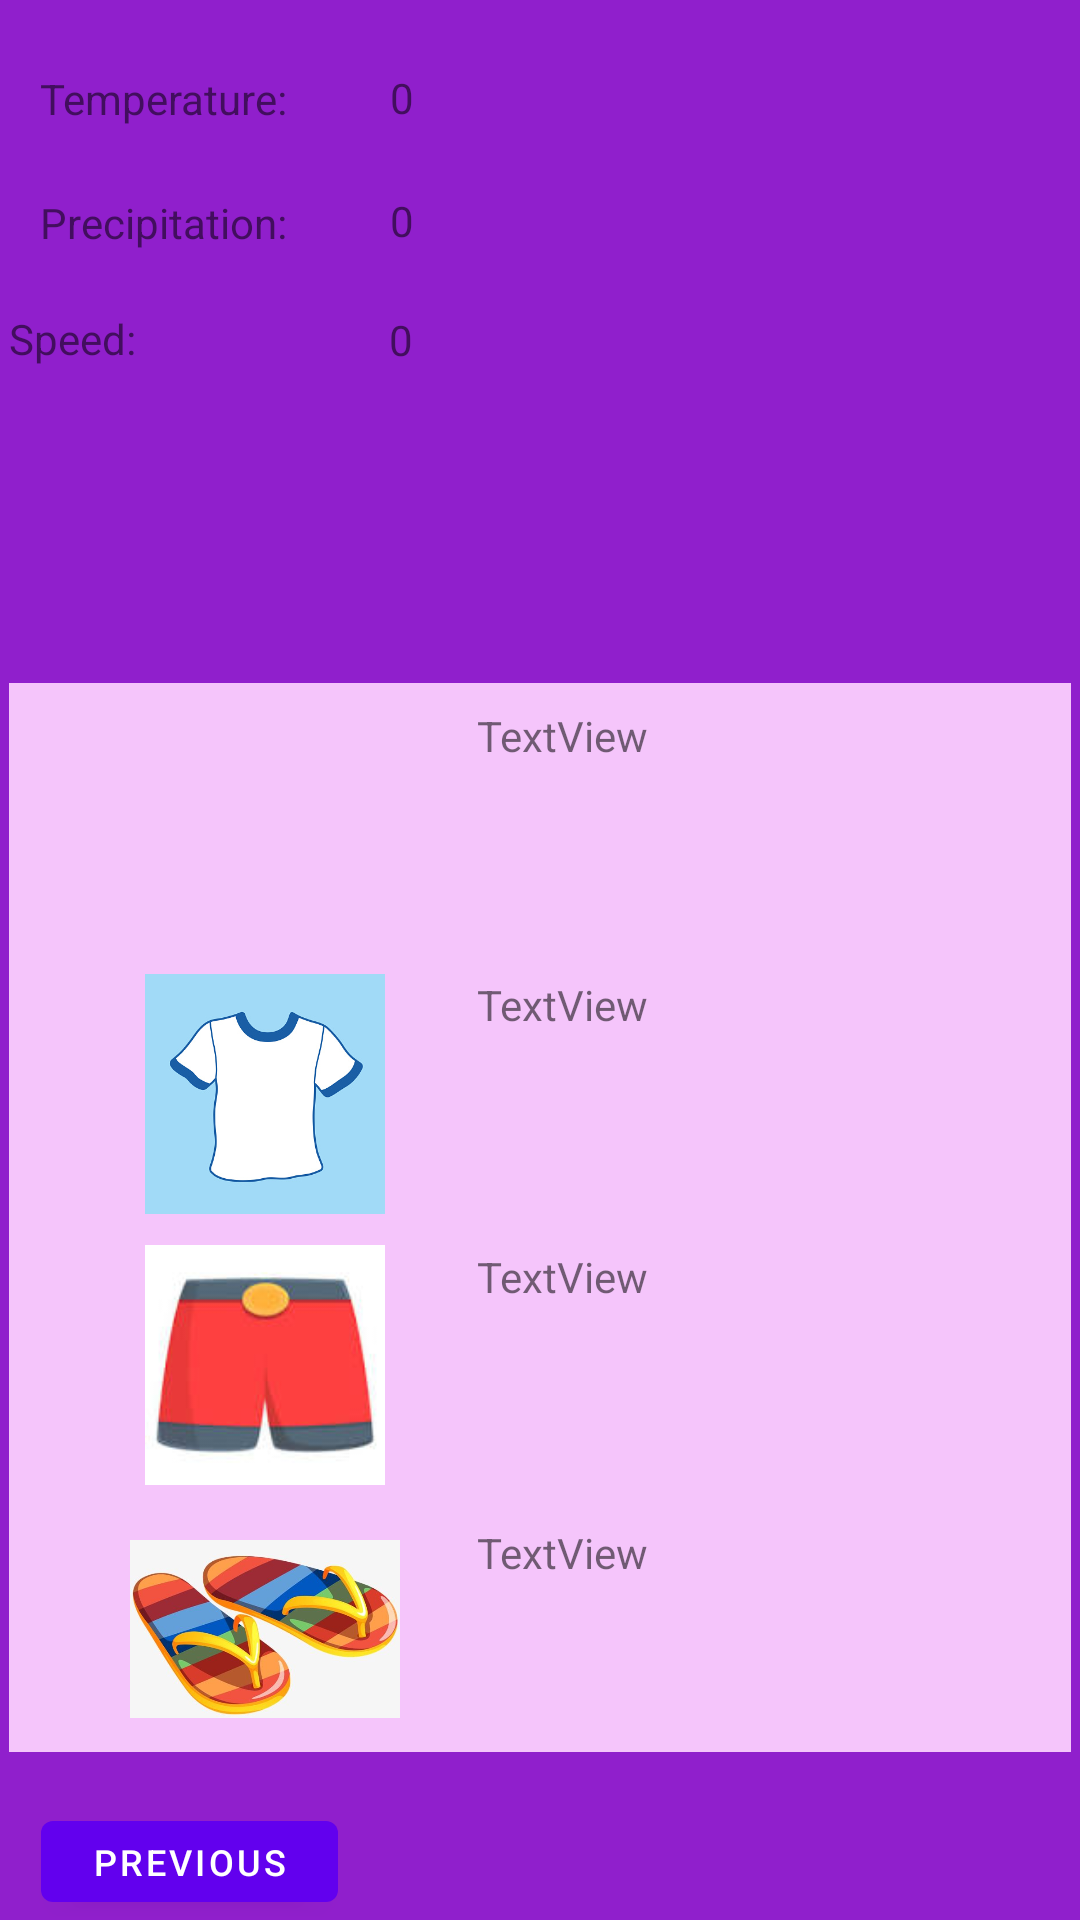

Icon bounding boxes for this 1080×1920 phone screenshot, format (x1, y1, x2, y2):
sandals: (130, 1540, 400, 1718)
shirt: (145, 974, 385, 1214)
shorts: (145, 1245, 385, 1485)
